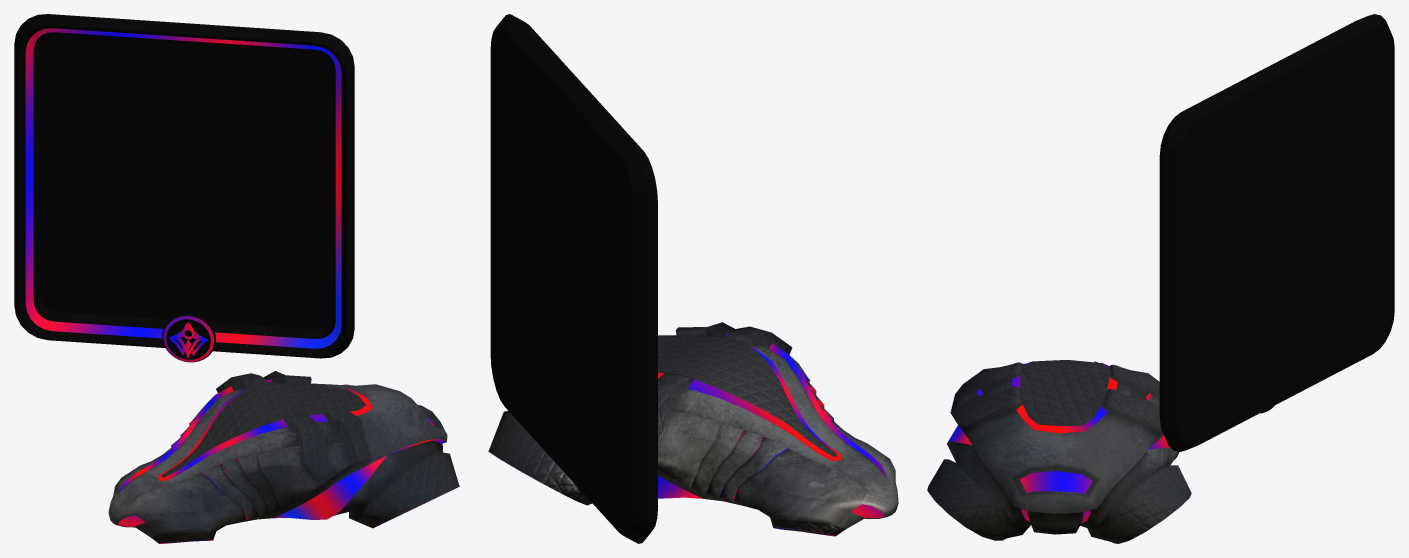
File: tocZone.glb
The picture shows the model from 3 angles, left to right: view 1: azimuth 30°, elevation 25°; view 2: azimuth 150°, elevation 25°; view 3: azimuth 270°, elevation 25°; orthographic projection. The views are drawn at different scales.
Parts seen in each view (by area): view 1: TOC Board, TOC Car; view 2: TOC Board, TOC Car; view 3: TOC Board, TOC Car.
Part boxes in pixels (x1,y1,x2,y2): TOC Board: [14, 14, 354, 362]; TOC Car: [108, 371, 459, 543]; TOC Board: [490, 14, 657, 543]; TOC Car: [488, 322, 898, 536]; TOC Board: [1159, 14, 1394, 451]; TOC Car: [927, 360, 1191, 543].
Size of what is drawn, in the model's own units: 9.27 by 11.66 by 11.36.
4 materials, 3 textured.
